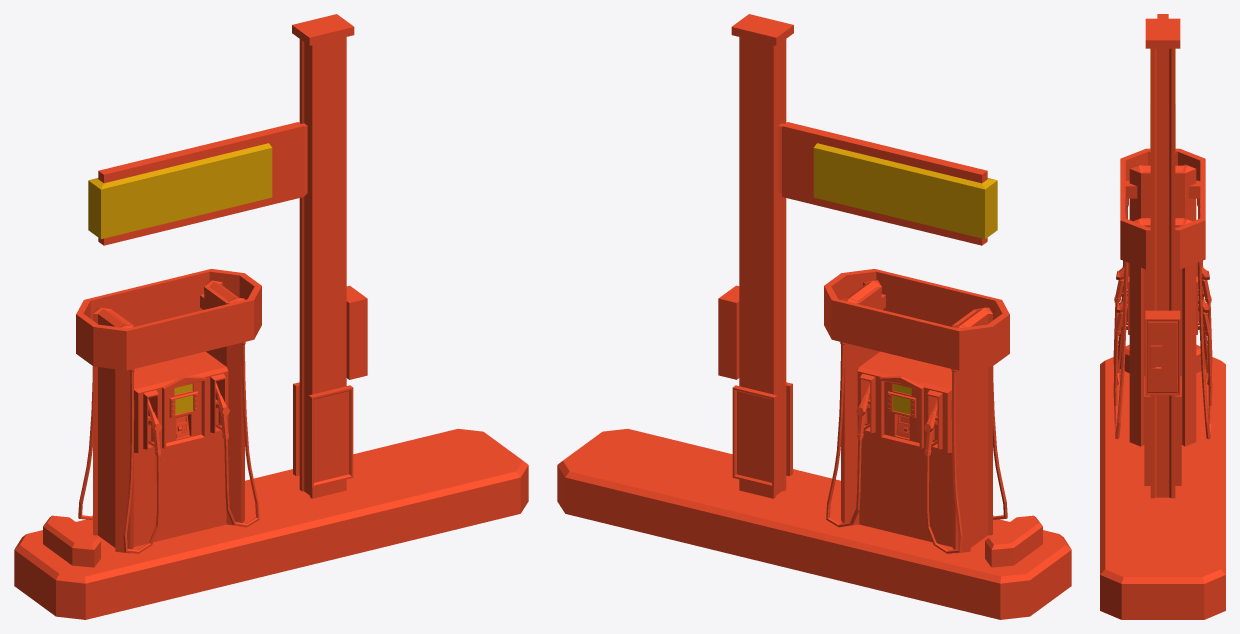
The model's file is SM_Gas_Station_Terminal_City.fbx.
3 views of the same model, side by side, from view 1: azimuth 30°, elevation 25°; view 2: azimuth 150°, elevation 25°; view 3: azimuth 270°, elevation 25° (orthographic).
Parts seen in each view (by area): view 1: SM_Gas_Station_Terminal_City; view 2: SM_Gas_Station_Terminal_City; view 3: SM_Gas_Station_Terminal_City.
Part boxes in pixels (x1,y1,x2,y2): SM_Gas_Station_Terminal_City: [14, 14, 528, 619]; SM_Gas_Station_Terminal_City: [557, 14, 1071, 619]; SM_Gas_Station_Terminal_City: [1100, 14, 1225, 619].
Size of the model in its own units: 4.83 by 4.93 by 1.12.
